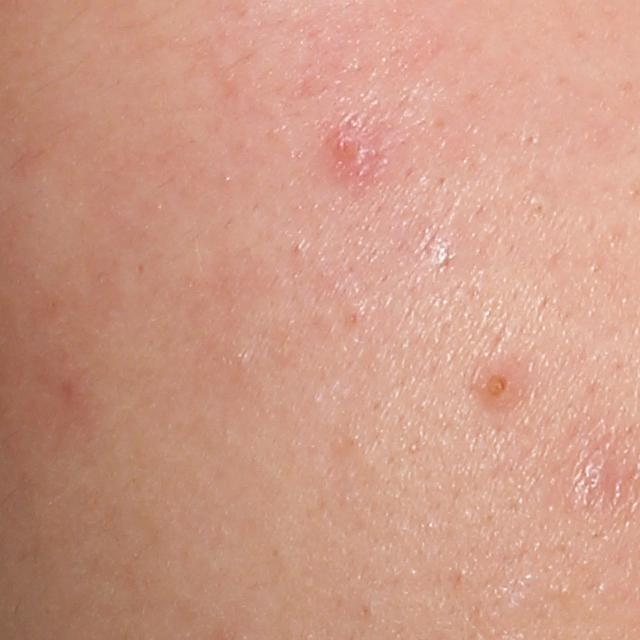papule: (320, 124, 377, 183), (474, 362, 525, 407)
